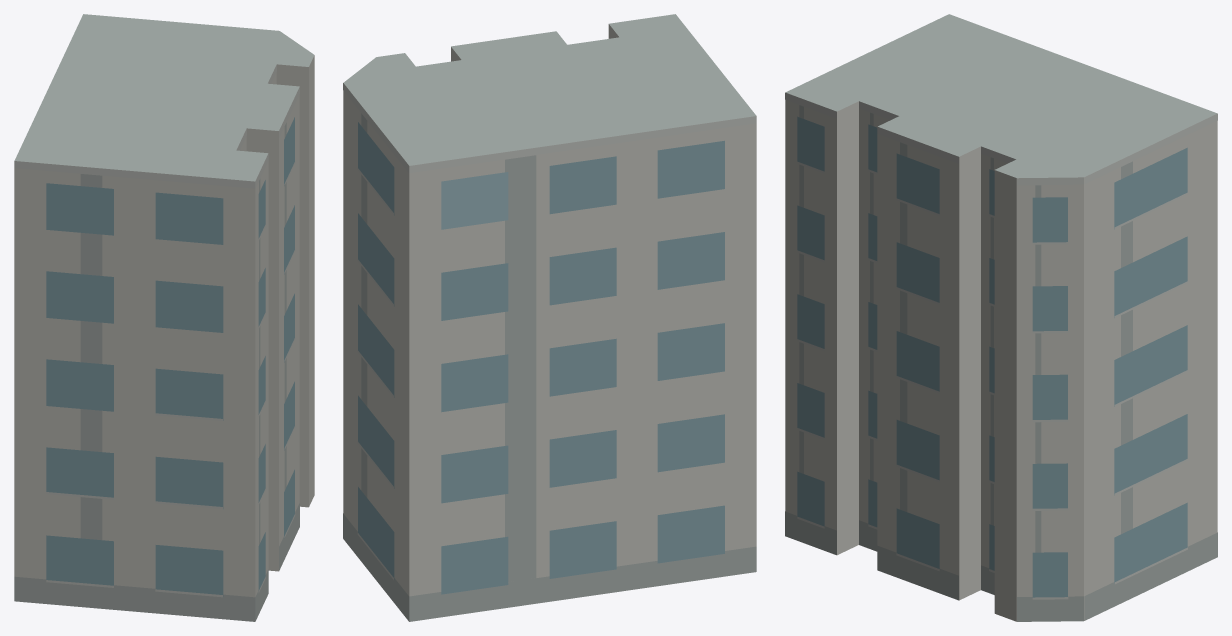
File: survey-upis-32619545.glb
The picture shows the model from 3 angles, left to right: view 1: azimuth 30°, elevation 25°; view 2: azimuth 150°, elevation 25°; view 3: azimuth 270°, elevation 25°; orthographic projection. The views are drawn at different scales.
Parts seen in each view (by area): view 1: survey-upis-32619545.tmp; view 2: survey-upis-32619545.tmp; view 3: survey-upis-32619545.tmp.
Part boxes in pixels (x1,y1,x2,y2): survey-upis-32619545.tmp: [14, 14, 314, 621]; survey-upis-32619545.tmp: [343, 14, 756, 621]; survey-upis-32619545.tmp: [785, 14, 1217, 621].
Size of the model in its own units: 11.75 by 14.8 by 13.08.
